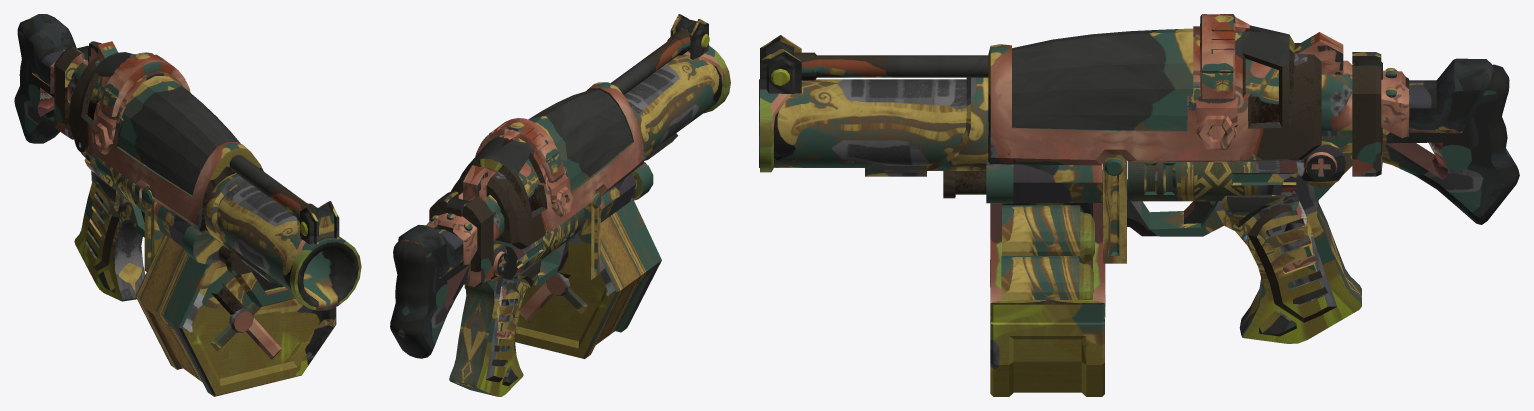
File: lj_wuqi.FBX
3 views of the same model, side by side, from view 1: azimuth 30°, elevation 25°; view 2: azimuth 150°, elevation 25°; view 3: azimuth 270°, elevation 25° (orthographic). The views are drawn at different scales.
Parts seen in each view (by area): view 1: Box001, 对象001; view 2: Box001, 对象001; view 3: Box001, 对象001.
Boxes of the visible parts, left/top/right/bottom form: Box001: left=14, top=14, right=361, bottom=396; 对象001: left=118, top=76, right=240, bottom=195; Box001: left=390, top=14, right=730, bottom=396; 对象001: left=528, top=90, right=632, bottom=191; Box001: left=759, top=14, right=1519, bottom=396; 对象001: left=1012, top=28, right=1193, bottom=130.
Size of the model in its own units: 14.86 by 24.24 by 49.43.
